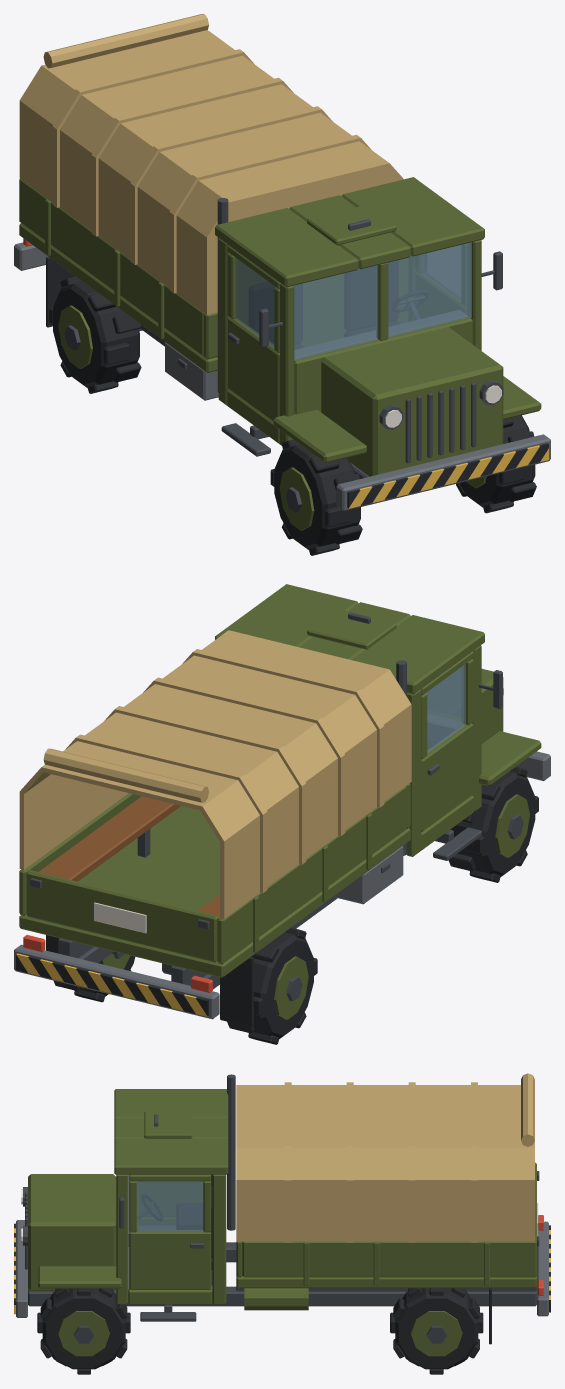
The model's file is army-cargo-truck.glb.
3 views of the same model, one above another, from view 1: azimuth 30°, elevation 25°; view 2: azimuth 150°, elevation 25°; view 3: azimuth 270°, elevation 25° (orthographic). The views are drawn at different scales.
Visible parts, largest first — view 1: Body_OliveDrab, Body_SandTan, Body_Glass, Body_StoneDark, Body, RR, FR, Door_R, FL, Body_Rubber, DriverSeat_Rubber, Door_R_Glass (+7 smaller); view 2: Body_SandTan, Body_OliveDrab, Tailgate, Door_R, Body_StoneDark, FR, Body_WoodDark, RR, Body_Rubber, Body, Door_R_Glass, RoofHatch (+7 smaller); view 3: Body_SandTan, Body_OliveDrab, Body, Door_L, RL, FL, Door_L_Glass, Body_StoneDark, Door_R, RL_OliveDrab, FL_OliveDrab, RoofHatch (+2 smaller).
Boxes of the visible parts, box(x1,y1,x2,y2) form: Body_OliveDrab: box(19, 177, 541, 476); Body_SandTan: box(19, 14, 403, 314); Body_Glass: box(294, 242, 471, 360); Body_StoneDark: box(14, 242, 550, 510); Body: box(139, 198, 503, 478); RR: box(49, 276, 141, 393); FR: box(270, 439, 362, 555); Door_R: box(227, 245, 280, 421); FL: box(456, 415, 536, 513); Body_Rubber: box(46, 257, 548, 508); DriverSeat_Rubber: box(344, 260, 399, 336); Door_R_Glass: box(235, 258, 275, 346); Body_SandTan: box(19, 630, 411, 918); Body_OliveDrab: box(19, 584, 541, 977); Tailgate: box(26, 870, 218, 962); Door_R: box(421, 651, 473, 831); Body_StoneDark: box(14, 714, 550, 1019); FR: box(448, 766, 538, 882); Body_WoodDark: box(39, 796, 219, 917); RR: box(227, 927, 317, 1044); Body_Rubber: box(16, 935, 253, 1027); Body: box(58, 660, 503, 989); Door_R_Glass: box(426, 664, 465, 753); RoofHatch: box(307, 609, 396, 649); Body_SandTan: box(236, 1073, 534, 1242); Body_OliveDrab: box(28, 1089, 536, 1310); Body: box(23, 1074, 536, 1321); Door_L: box(129, 1174, 211, 1289); RL: box(390, 1288, 483, 1374); FL: box(37, 1288, 130, 1374); Door_L_Glass: box(137, 1181, 203, 1231); Body_StoneDark: box(16, 1174, 548, 1317); Door_R: box(138, 1181, 202, 1216); RL_OliveDrab: box(411, 1311, 462, 1356); FL_OliveDrab: box(58, 1311, 109, 1356); RoofHatch: box(144, 1111, 192, 1138).
Size of the model in its own units: 11.1 by 12.68 by 26.8.
